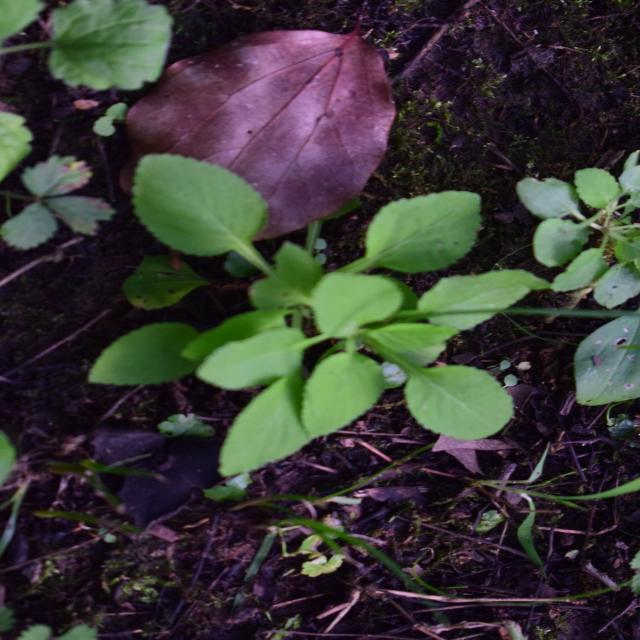Viola: (166, 112, 473, 532)
